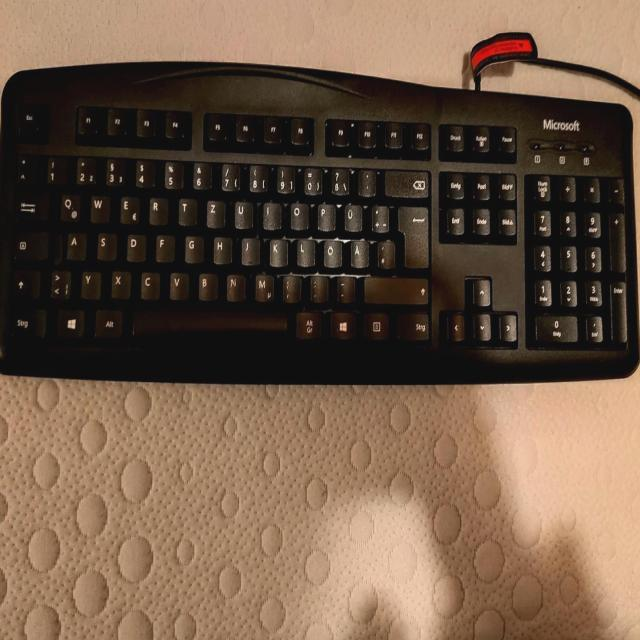0: (300, 164, 321, 194)
1: (44, 152, 66, 184)
2: (73, 153, 95, 185)
3: (102, 155, 124, 185)
4: (132, 156, 154, 186)
5: (161, 158, 183, 188)
6: (190, 158, 211, 188)
7: (219, 160, 239, 190)
8: (247, 161, 267, 191)
9: (274, 163, 295, 193)
a: (64, 228, 85, 260)
accent: (356, 165, 376, 195)
ae: (348, 236, 368, 266)
alt-left: (92, 305, 122, 337)
altgr-right: (293, 308, 321, 338)
b: (196, 269, 217, 299)
c: (137, 268, 159, 298)
caret: (14, 151, 36, 183)
comma: (279, 272, 300, 302)
d: (124, 230, 145, 260)
del: (382, 166, 429, 198)
e: (117, 193, 138, 223)
enter: (396, 203, 428, 268)
f: (154, 231, 174, 261)
g: (182, 232, 202, 261)
h: (211, 233, 231, 262)
hash: (374, 237, 394, 267)
i: (260, 199, 280, 229)
j: (239, 234, 259, 264)
k: (267, 235, 286, 265)
keyboard: (0, 68, 640, 380)
l: (294, 235, 314, 265)
less: (48, 266, 70, 298)
m: (251, 270, 273, 300)
minus: (334, 272, 354, 301)
n: (223, 270, 244, 300)
o: (287, 199, 307, 228)
oe: (320, 236, 340, 266)
p: (315, 200, 335, 229)
plus: (368, 202, 388, 232)
point: (307, 272, 327, 301)
q: (58, 190, 80, 220)
r: (147, 193, 167, 223)
s: (94, 229, 116, 259)
shift-left: (11, 266, 40, 298)
shift-lock: (12, 227, 48, 259)
shift-right: (361, 273, 427, 303)
space: (130, 305, 287, 342)
ss: (328, 164, 348, 194)
strg-left: (8, 304, 46, 339)
strg-right: (396, 309, 430, 339)
t: (176, 194, 196, 224)
tab: (13, 189, 49, 221)
u: (232, 198, 252, 228)
ue: (342, 201, 361, 231)
v: (167, 268, 189, 298)
w: (87, 191, 109, 221)
x: (108, 266, 130, 296)
y: (78, 267, 100, 297)
z: (204, 197, 224, 227)
